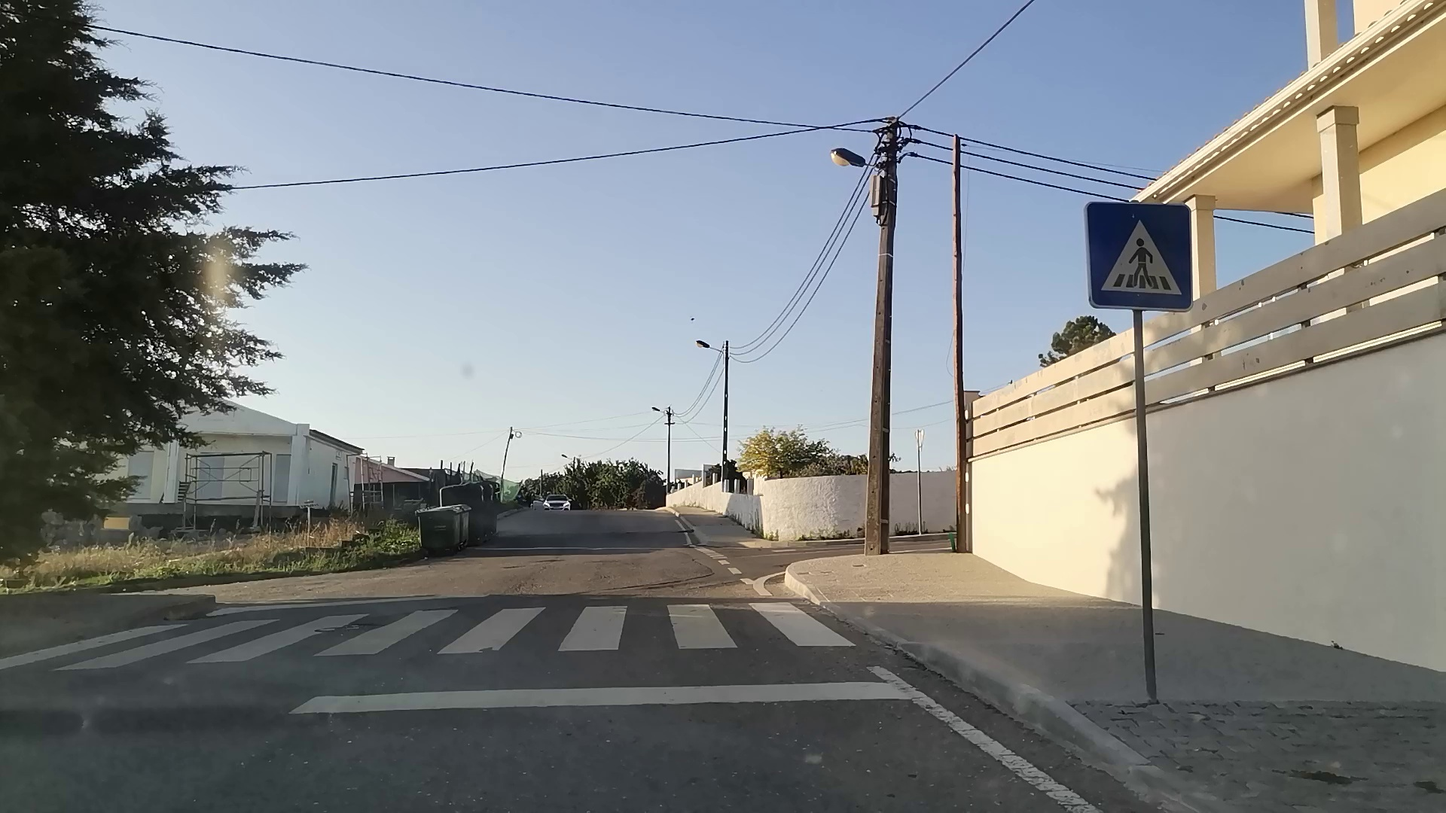Stairs: (18, 603, 934, 715)
